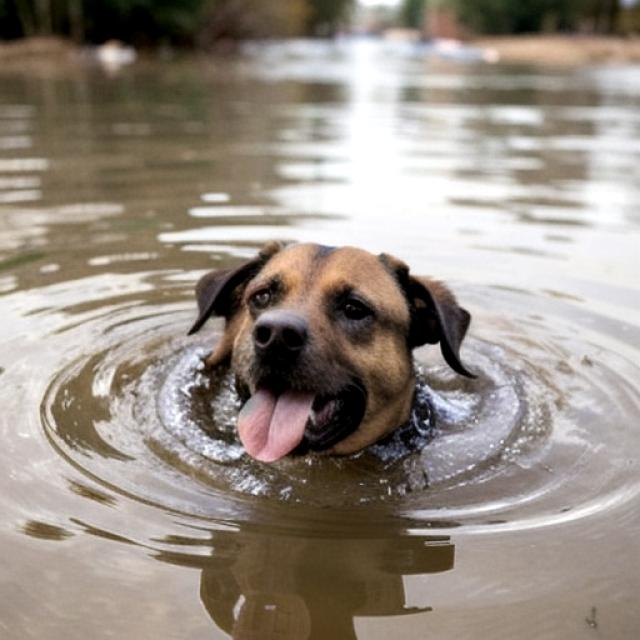dog: (160, 213, 494, 495)
